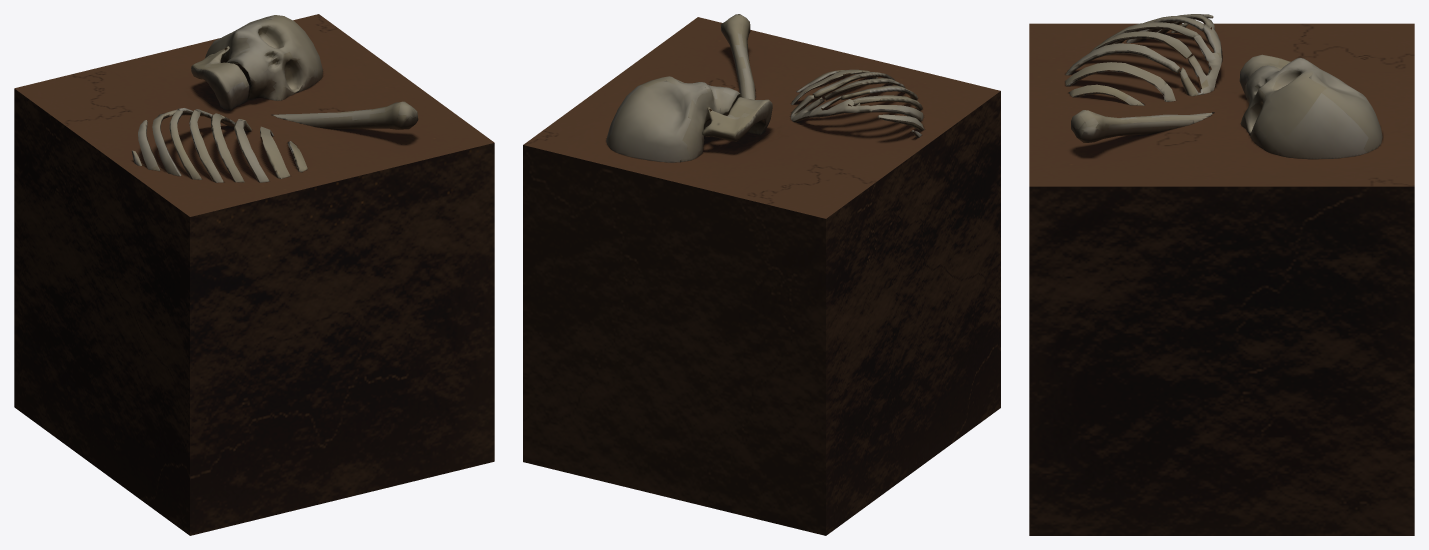
Rendered from Obstacle_1.obj.
3 renders of one model, left to right at view 1: azimuth 30°, elevation 25°; view 2: azimuth 150°, elevation 25°; view 3: azimuth 270°, elevation 25°, orthographic. The views are drawn at different scales.
Visible parts, largest first — view 1: MandInferior_caveira_cranio_low:ZBrushPolyMesh3D; view 2: MandInferior_caveira_cranio_low:ZBrushPolyMesh3D; view 3: MandInferior_caveira_cranio_low:ZBrushPolyMesh3D.
Part boxes in pixels (left/top/right/bottom): MandInferior_caveira_cranio_low:ZBrushPolyMesh3D: left=14, top=14, right=494, bottom=535; MandInferior_caveira_cranio_low:ZBrushPolyMesh3D: left=523, top=14, right=1000, bottom=535; MandInferior_caveira_cranio_low:ZBrushPolyMesh3D: left=1029, top=14, right=1414, bottom=535.
Size of the model in its own units: 1 by 1.17 by 1.
Materials: 1 (1 with a texture image).
